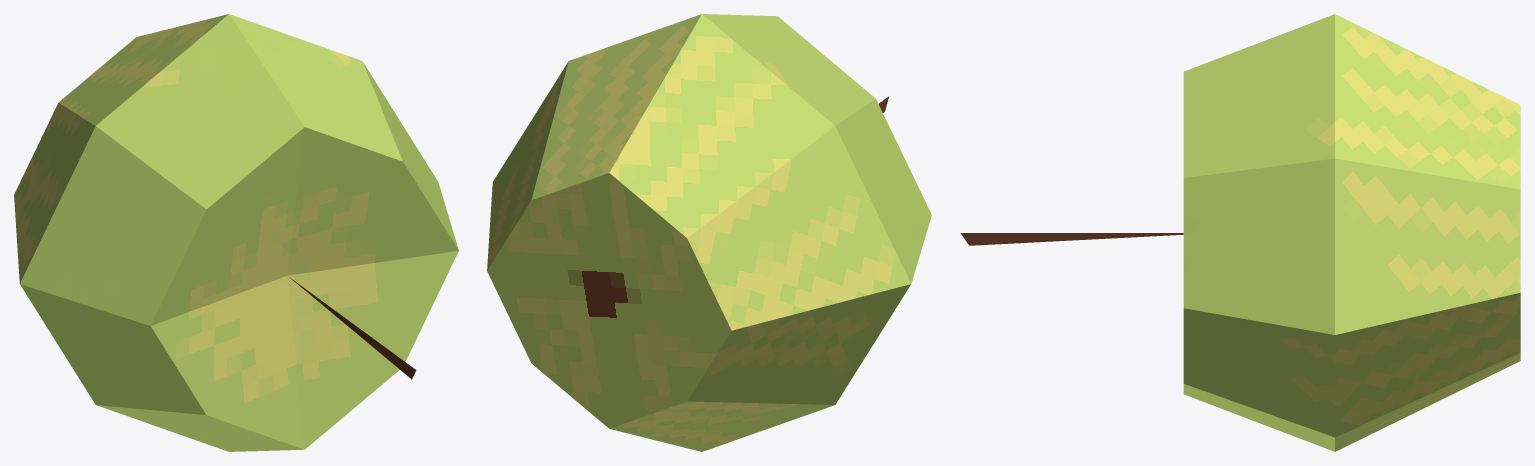
Rendered from gapple.fbx.
The picture shows the model from 3 angles, left to right: view 1: azimuth 30°, elevation 25°; view 2: azimuth 150°, elevation 25°; view 3: azimuth 270°, elevation 25°; orthographic projection.
Visible parts, largest first — view 1: Cube; view 2: Cube; view 3: Cube.
Part boxes in pixels (box(x1,y1,x2,y2)): Cube: box(14, 14, 458, 451); Cube: box(487, 14, 931, 451); Cube: box(960, 14, 1520, 451).
Size of the model in its own units: 164 by 164 by 190.
Materials: 1 (1 with a texture image).
